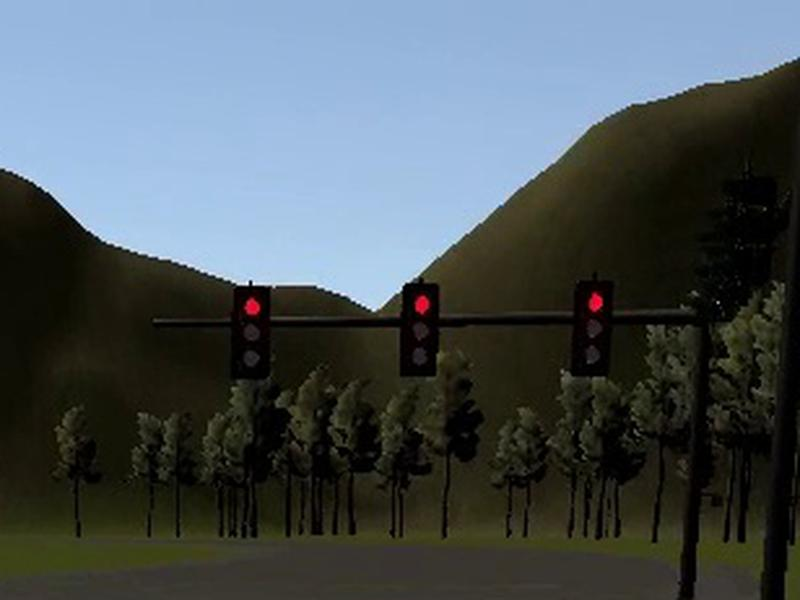Red: (571, 280, 612, 376), (232, 285, 270, 379), (400, 283, 438, 377)
